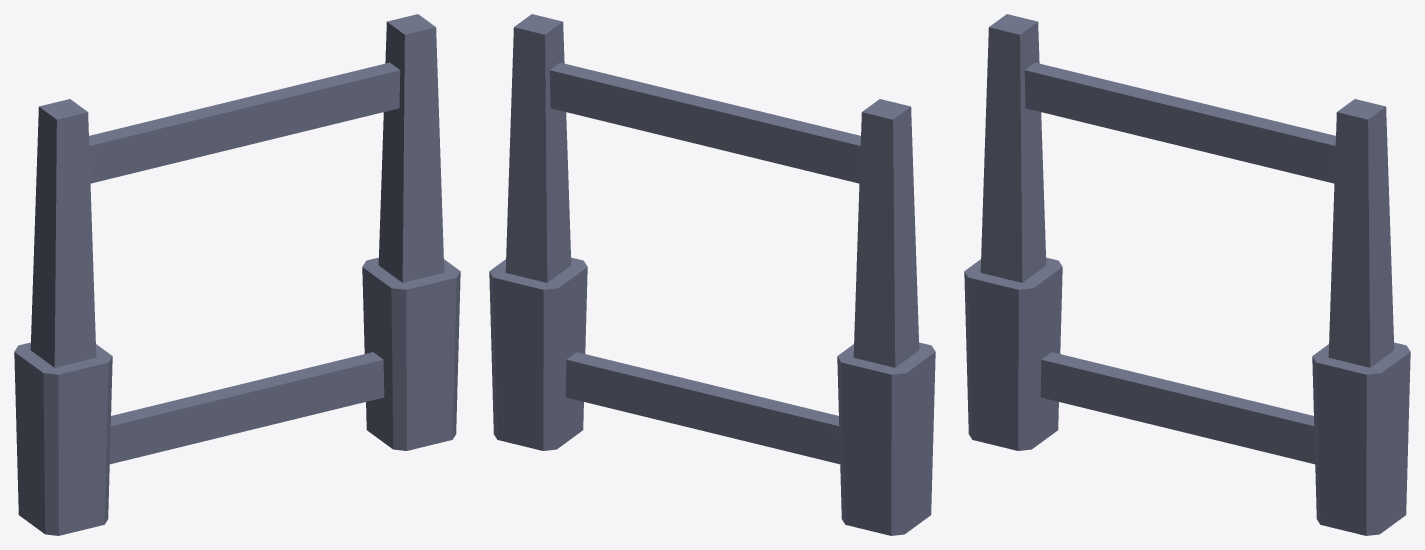
File: structure-metal-wall.obj
3 renders of one model, left to right at view 1: azimuth 30°, elevation 25°; view 2: azimuth 150°, elevation 25°; view 3: azimuth 330°, elevation 25°, orthographic.
Size of the model in its own units: 0.5354 by 0.5 by 0.0889.
